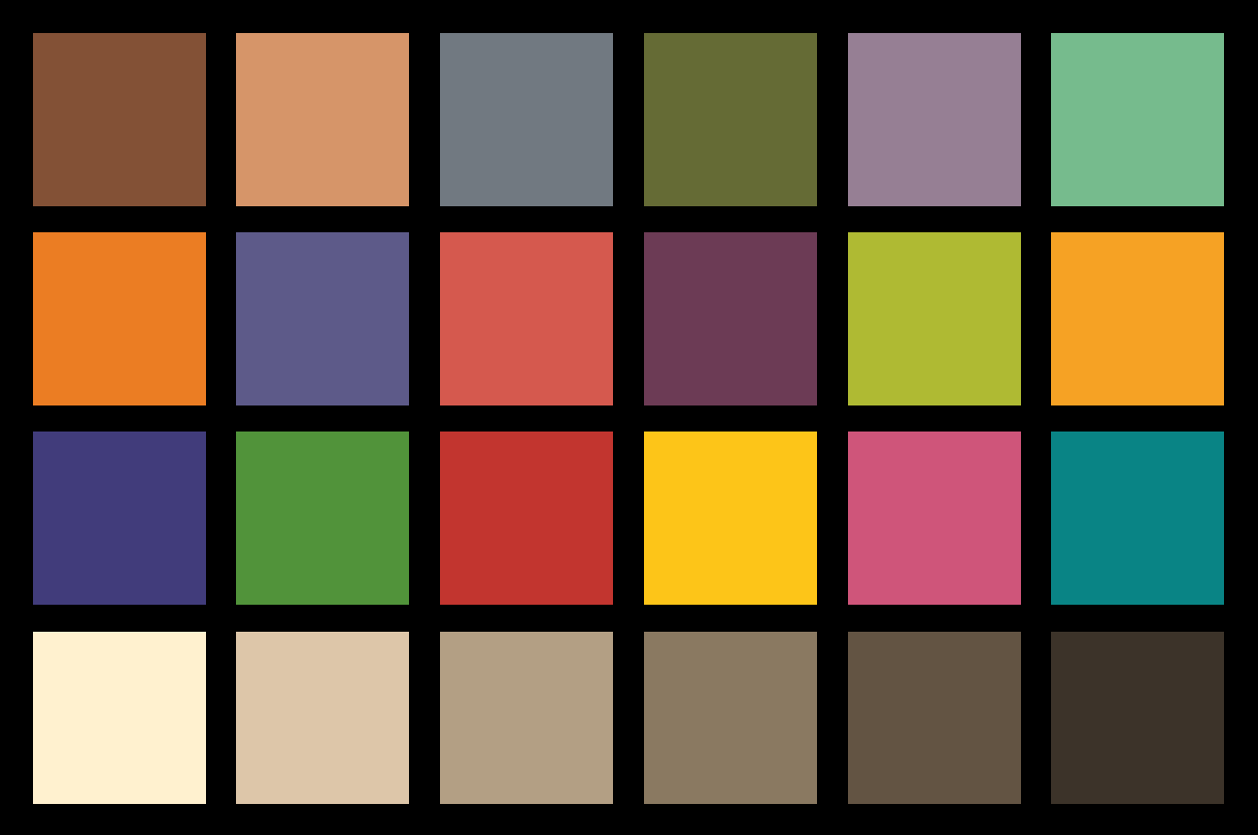ColourChecker: (8, 8, 1248, 824)
